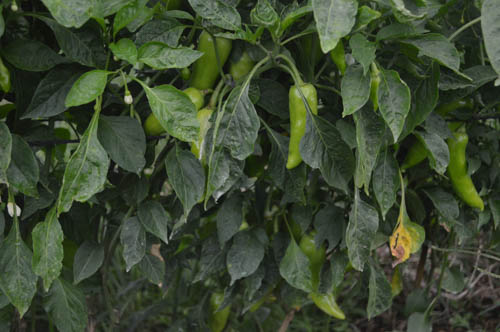ChiliPepper: (292, 224, 354, 328), (282, 82, 323, 172), (449, 126, 488, 216), (142, 93, 201, 141), (191, 27, 230, 92), (188, 105, 216, 168), (205, 287, 231, 331)
